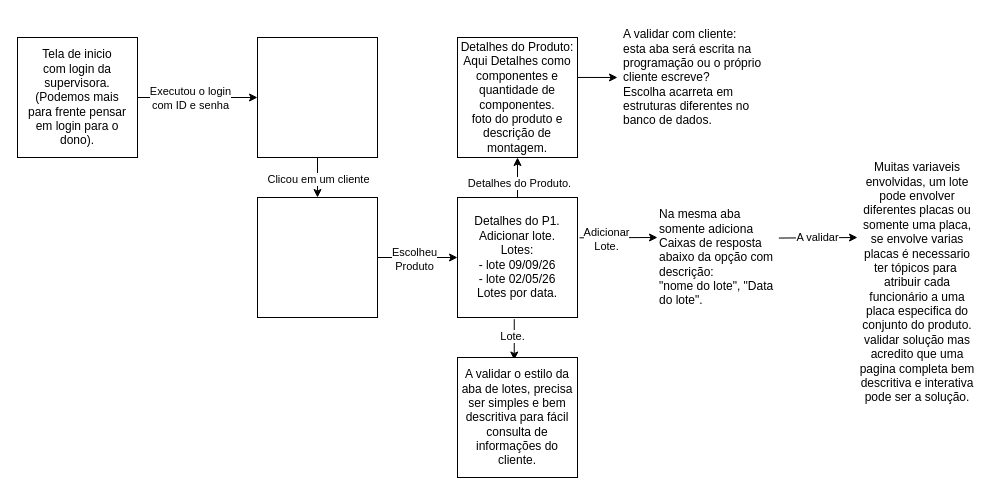
The diagram is 995 pixels wide and 495 high, and some of its shapes have lost their labels. Each missing label, with the box of its shape:
Clientes: - Cliente 1 - Cliente 2 - Cliente 3: (256, 36, 378, 158)
Produtos: -P1 -P2 -P3 produtos do cliente listados: (256, 196, 378, 318)
